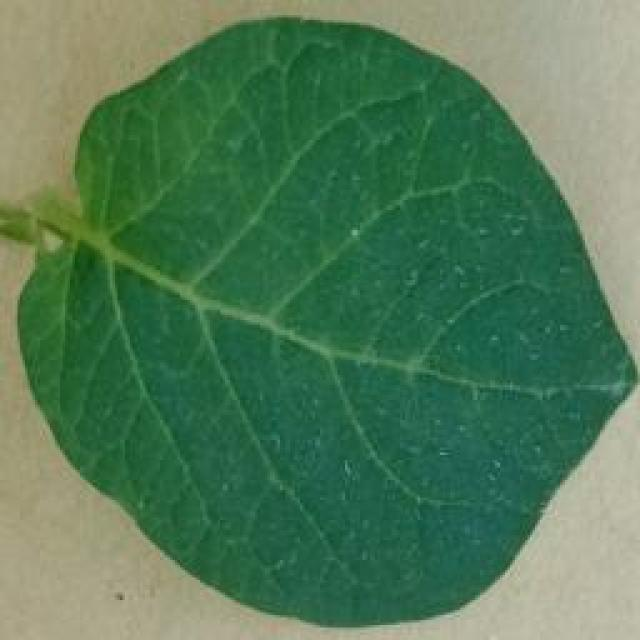Potato_Healthy: (8, 16, 627, 626)
